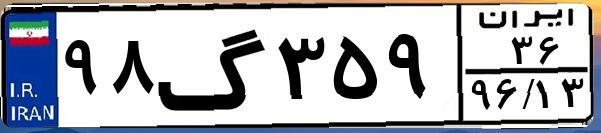1: (535, 70, 560, 125)
3: (270, 28, 330, 110), (560, 70, 590, 125), (508, 27, 537, 80)
5: (330, 28, 385, 110)
6: (537, 27, 568, 80), (495, 70, 520, 125)
8: (110, 28, 156, 98)
9: (385, 28, 445, 110), (57, 26, 110, 100), (470, 70, 495, 125)
گ: (156, 12, 270, 120)
